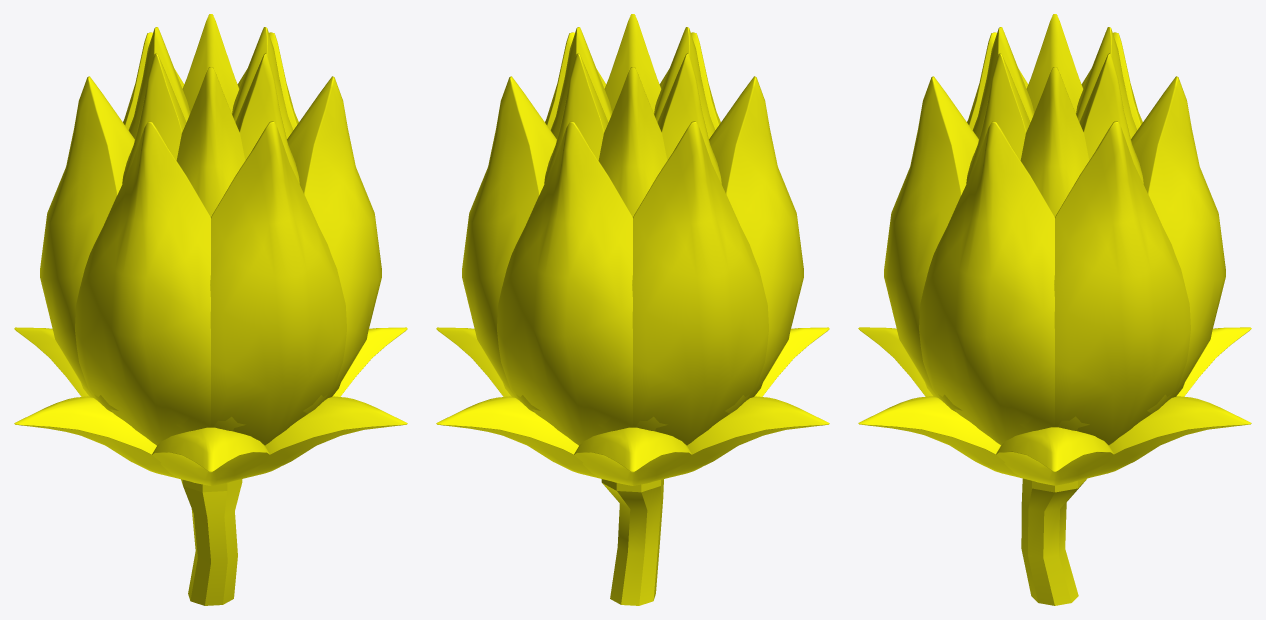
The model's file is 3D_Goal.fbx.
3 renders of one model, left to right at view 1: azimuth 30°, elevation 25°; view 2: azimuth 150°, elevation 25°; view 3: azimuth 270°, elevation 25°, orthographic.
Parts seen in each view (by area): view 1: Goal; view 2: Goal; view 3: Goal.
Boxes of the visible parts, <box> form: Goal: <box>14,14,407,605</box>; Goal: <box>436,14,829,605</box>; Goal: <box>858,14,1251,605</box>.
Bounding box in the file's own units: 31.76 × 42.98 × 27.59.
